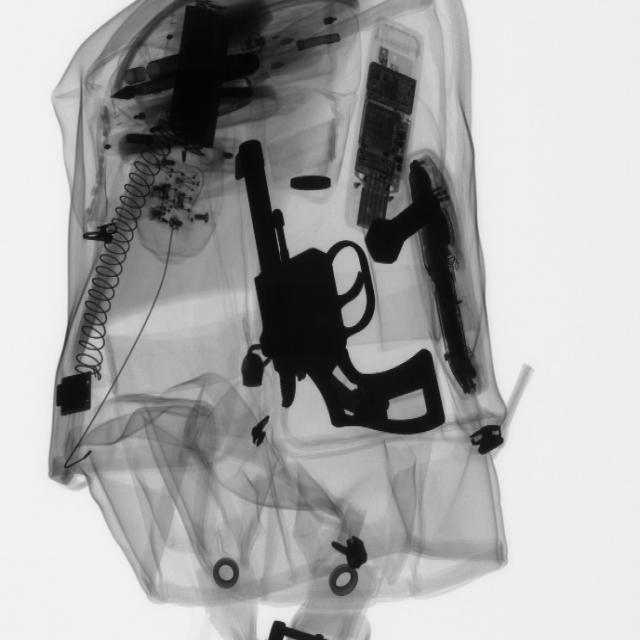GUN: (234, 141, 450, 427)
